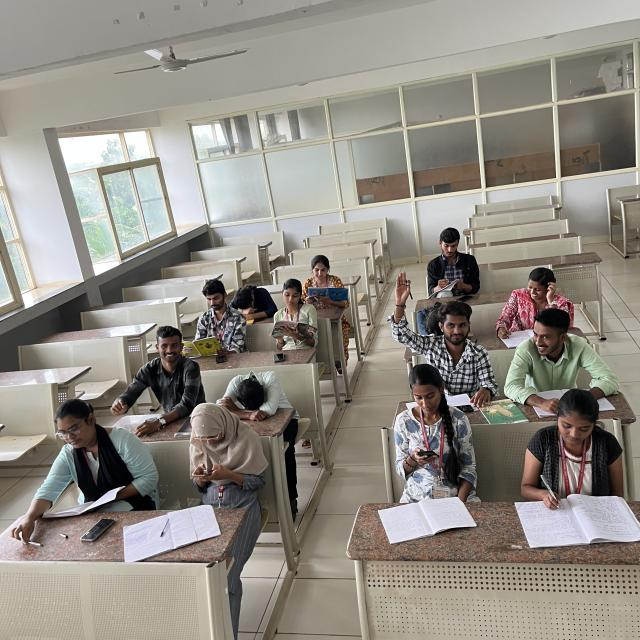Hand Rising: (383, 275, 512, 391)
Reading: (171, 278, 255, 363), (262, 280, 327, 359), (294, 248, 366, 312)
Sleeping: (213, 364, 311, 430), (408, 292, 494, 348), (223, 266, 280, 331)
Using Phone: (379, 374, 476, 489), (178, 404, 272, 498)
Writing: (504, 399, 624, 536), (483, 270, 605, 344), (408, 220, 500, 298)
